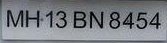character: (6, 8, 23, 28), (24, 9, 40, 28), (88, 10, 104, 29), (72, 10, 86, 29), (148, 11, 162, 29), (54, 10, 67, 29), (107, 11, 120, 29), (135, 11, 148, 29), (122, 11, 134, 30), (45, 10, 53, 28)
